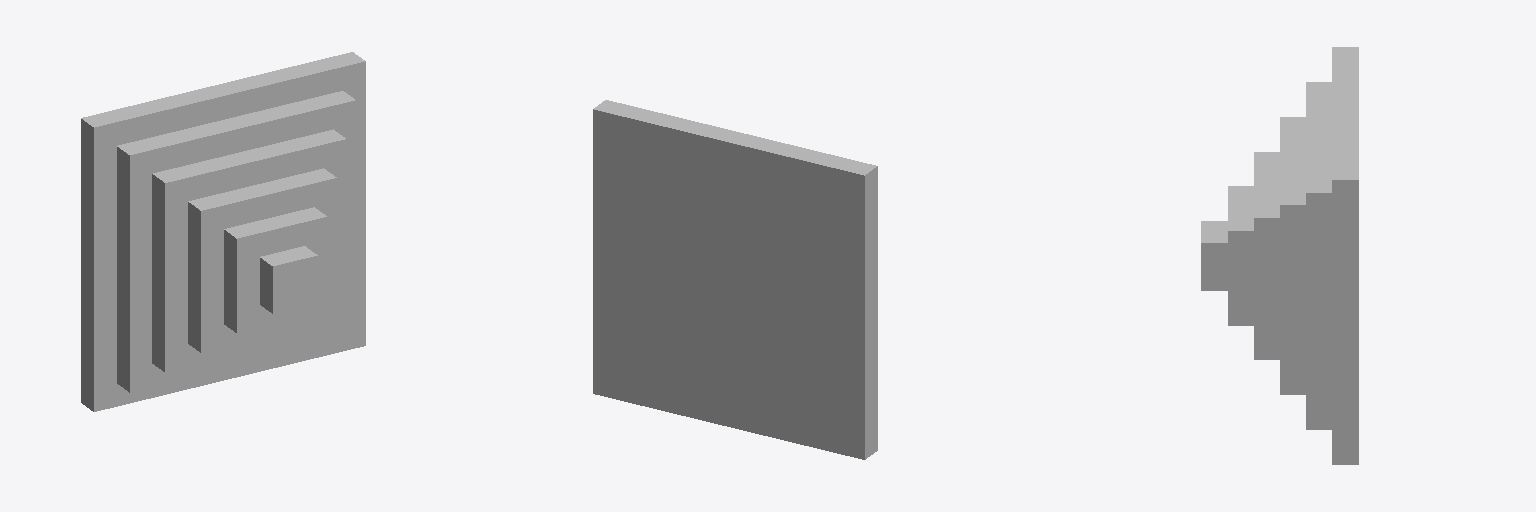
File: sun.obj
3 renders of one model, left to right at view 1: azimuth 30°, elevation 25°; view 2: azimuth 150°, elevation 25°; view 3: azimuth 270°, elevation 25°, orthographic.
Parts seen in each view (by area): view 1: object 1; view 2: object 1; view 3: object 1.
Part boxes in pixels (x1,y1,x2,y2): object 1: (81, 52, 365, 411); object 1: (593, 100, 877, 459); object 1: (1201, 47, 1358, 464).
Bounding box in the file's own units: 1.2 × 1.2 × 0.6.